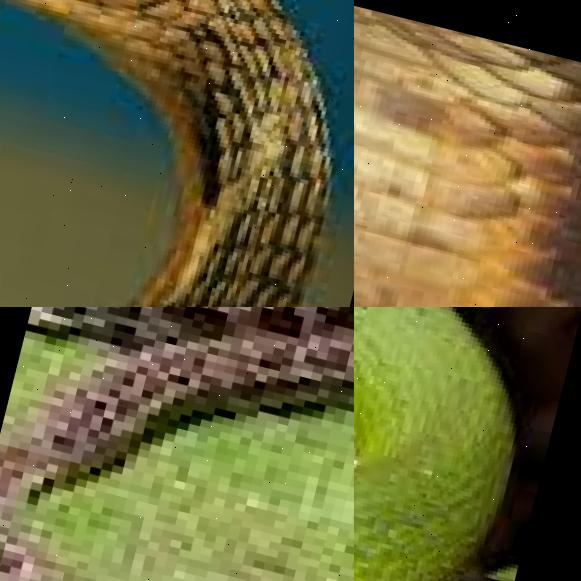snake: (0, 0, 354, 307), (0, 307, 354, 581), (354, 0, 581, 307), (354, 307, 581, 581)
